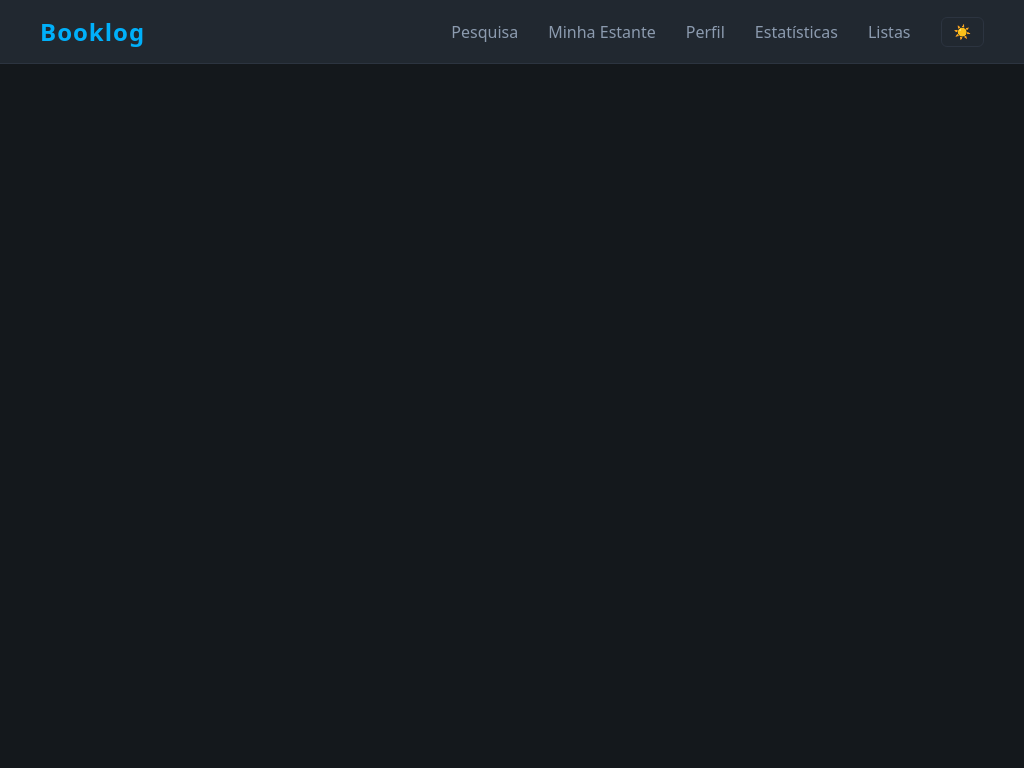
Test case: Componente: NavigationBar › deve iniciar no modo escuro por padrão e alternar para claro ao clicar
Click the button titled "alternar tema".
click(962, 32)  # box [940, 16, 984, 46]
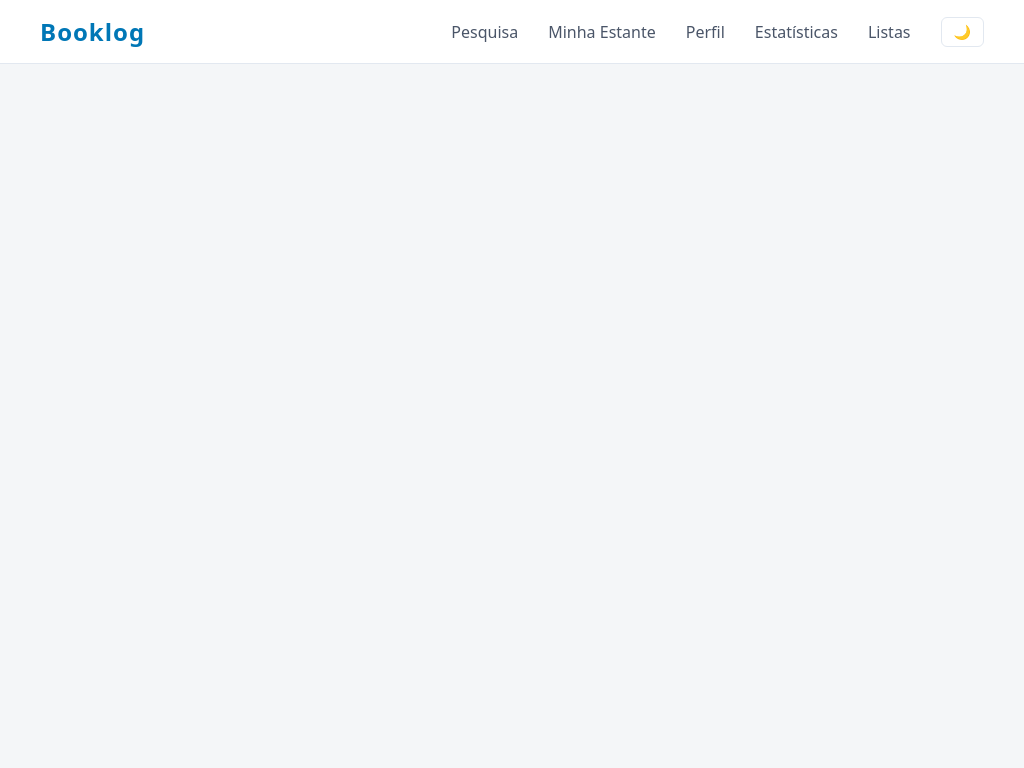
Now the button titled "alternar tema" reads "🌙", box [940, 16, 984, 46]
